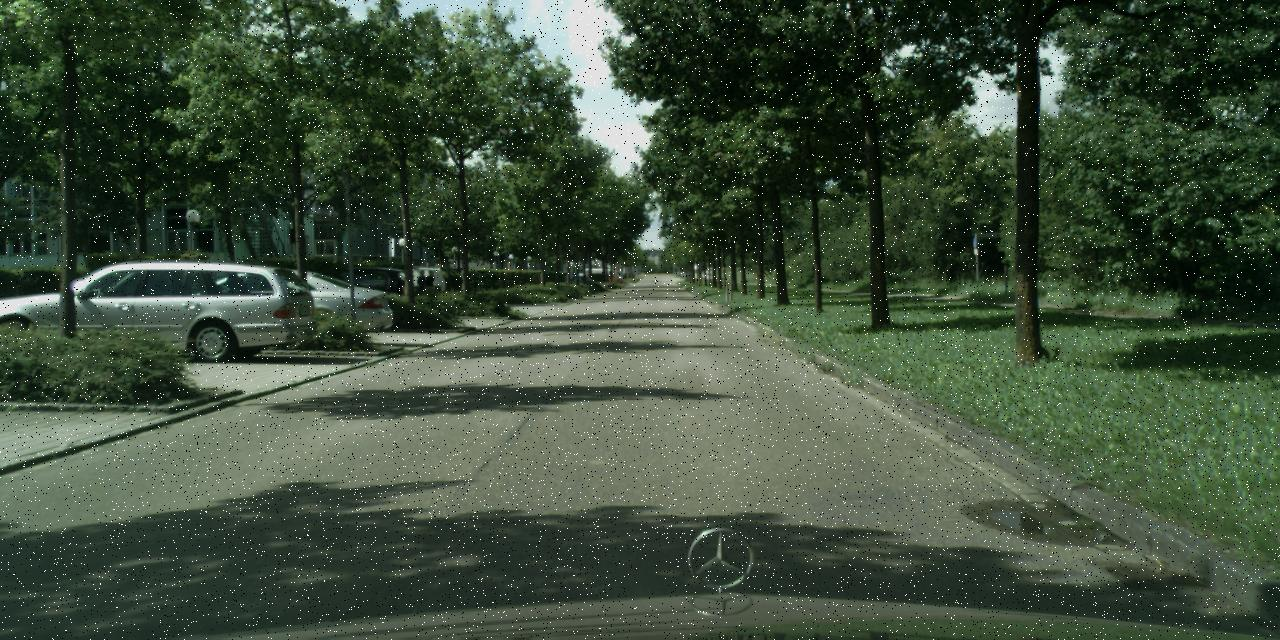ped: (422, 269, 437, 303), (415, 269, 429, 303)
